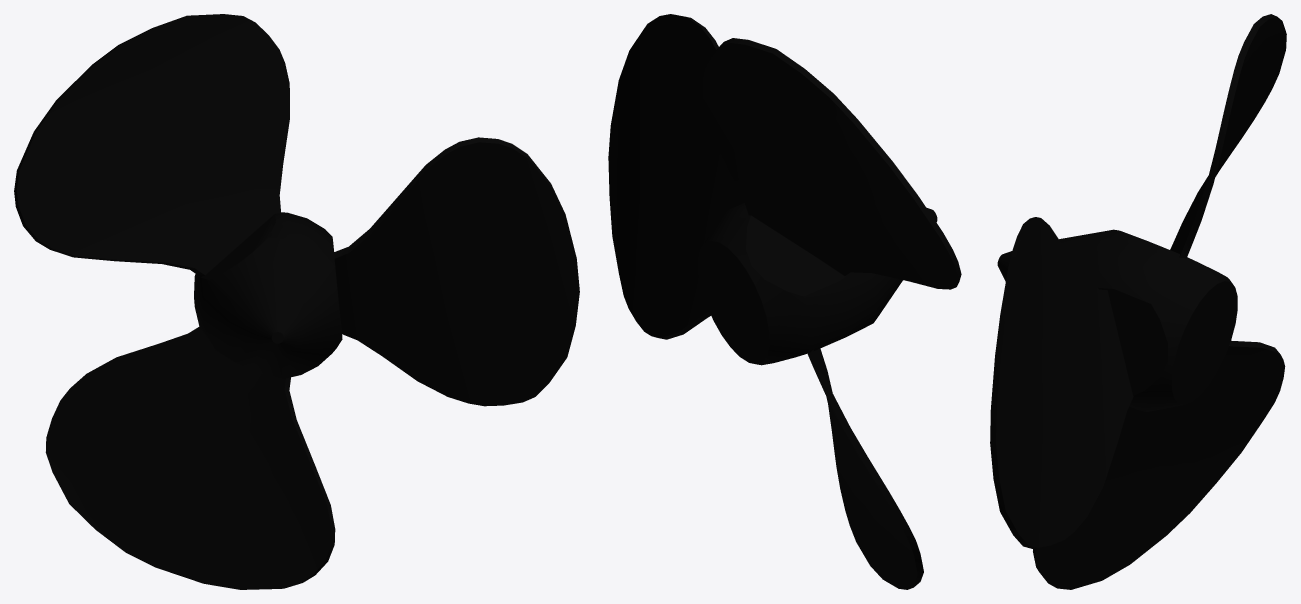
Rendered from ships_wheel.glb.
The picture shows the model from 3 angles, left to right: view 1: azimuth 30°, elevation 25°; view 2: azimuth 150°, elevation 25°; view 3: azimuth 270°, elevation 25°; orthographic projection. The views are drawn at different scales.
Parts seen in each view (by area): view 1: node_id3; view 2: node_id3; view 3: node_id3.
Boxes of the visible parts, <box> form: node_id3: <box>14,14,579,589</box>; node_id3: <box>608,14,961,589</box>; node_id3: <box>990,14,1286,589</box>.
Bounding box in the file's own units: 0.4419 × 0.498 × 0.2369.
Materials: 1 (1 with a texture image).
